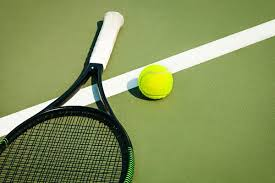tennis_ball: (137, 64, 174, 100)
